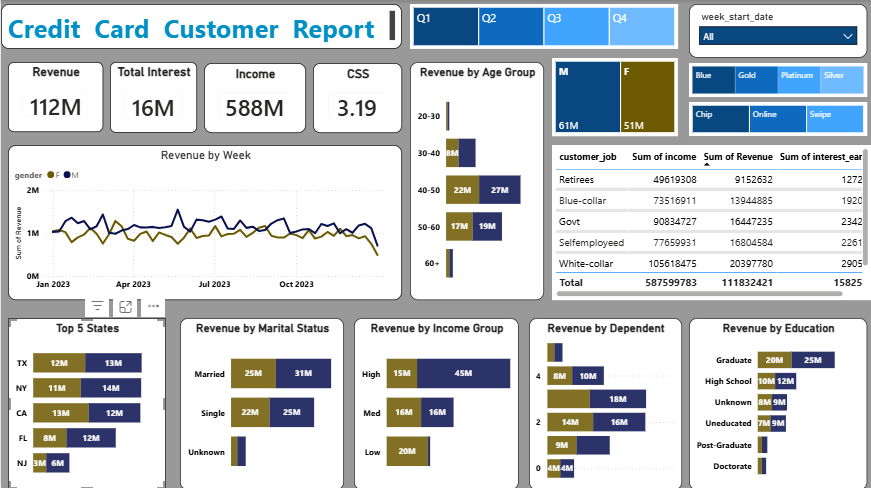

This screenshot's page, from the dashboard's own definition file:
{"tool":"powerbi","page":{"name":"CC Customer","canvas":[1280,720],"ordinal":2},"visuals":[{"type":"textbox","box":[0,5.9,589.2,66.1],"z":0},{"type":"barChart","title":" Revenue by Income Group","fields":{"Y":["Sum(public cc_detail.Revenue)"],"Category":["public cust_detail.IncomeGroup"],"Series":["public cust_detail.gender"]},"box":[518.7,467.3,242.4,252.7],"z":1000},{"type":"tableEx","fields":{"Values":["public cust_detail.customer_job","public cust_detail.income","Sum(public cc_detail.Revenue)","Sum(public cc_detail.interest_earned)"]},"box":[809.6,213.1,470.2,227.8],"z":2000},{"type":"cardVisual","title":"Revenue","fields":{"Data":["Sum(public cc_detail.Revenue)"]},"box":[10.3,91.1,139.6,102.9],"z":3000},{"type":"cardVisual","title":"Total Interest","fields":{"Data":["Sum(public cc_detail.interest_earned)"]},"box":[160.2,91.1,127.8,104.3],"z":4000},{"type":"cardVisual","title":"Income","fields":{"Data":["Sum(public cust_detail.income)"]},"box":[298.3,92.6,149.9,102.9],"z":5000},{"type":"cardVisual","title":"CSS","fields":{"Data":["Avg(public cust_detail.cust_satisfaction_score)"]},"box":[458.4,92.6,130.8,102.9],"z":6000},{"type":"slicer","fields":{"Values":["public cc_detail.week_start_date"]},"box":[1010.9,5.9,261.6,79.3],"z":7000},{"type":"treemap","fields":{"Group":["public cc_detail.qtr"],"Values":["Avg(public cust_detail.client_num)"]},"box":[601,5.9,393.8,66.1],"z":8000},{"type":"treemap","fields":{"Group":["public cc_detail.card_category"],"Values":["Avg(public cust_detail.client_num)"],"Details":["public cc_detail.card_category"]},"box":[1010.9,92.6,261.6,50],"z":9000},{"type":"lineChart","title":"Revenue by Week","fields":{"Y":["Sum(public cc_detail.Revenue)"],"Series":["public cust_detail.gender"],"Category":["public cc_detail.week_start_date.Variation.Date Hierarchy.Year","public cc_detail.week_start_date.Variation.Date Hierarchy.Month","public cc_detail.week_start_date.Variation.Date Hierarchy.Day"]},"box":[10.3,213.1,578.9,227.8],"z":10000},{"type":"treemap","fields":{"Group":["public cust_detail.gender"],"Values":["Sum(public cc_detail.Revenue)"]},"box":[809.6,85.2,185.1,114.6],"z":11000},{"type":"barChart","title":" Revenue by Age Group","fields":{"Y":["Sum(public cc_detail.Revenue)"],"Category":["public cust_detail.AgeGroup"],"Series":["public cust_detail.gender"]},"box":[601,91.1,196.9,349.7],"z":12000},{"type":"barChart","title":" Revenue by Dependent","fields":{"Y":["Sum(public cc_detail.Revenue)"],"Category":["public cust_detail.dependent_count"],"Series":["public cust_detail.gender"]},"box":[775.8,467.3,224.8,252.7],"z":13000},{"type":"barChart","title":" Revenue by Education","fields":{"Y":["Sum(public cc_detail.Revenue)"],"Category":["public cust_detail.education_level"],"Series":["public cust_detail.gender"]},"box":[1010.9,467.3,261.6,252.7],"z":14000},{"type":"barChart","title":"Top 5 States","fields":{"Y":["Sum(public cc_detail.Revenue)"],"Category":["public cust_detail.state_cd"],"Series":["public cust_detail.gender"]},"box":[10.3,467.3,232.2,252.7],"z":15000},{"type":"barChart","title":" Revenue by Marital Status","fields":{"Y":["Sum(public cc_detail.Revenue)"],"Category":["public cust_detail.marital_status"],"Series":["public cust_detail.gender"]},"box":[263,467.3,241,252.7],"z":16000},{"type":"treemap","fields":{"Group":["public cc_detail.use_chip"],"Values":["Avg(public cust_detail.client_num)"]},"box":[1010.9,149.9,261.6,50],"z":17000}]}

Visuals, with their boxes in screenshot pixels (x1, y1, x2, y2), scaled from the page's 1280x720 canvas onto the 871x488 screenshot:
textbox: (left=0, top=4, right=401, bottom=49)
" Revenue by Income Group" barChart: (left=353, top=317, right=518, bottom=487)
tableEx - public cust_detail.customer_job x public cust_detail.income: (left=551, top=144, right=870, bottom=299)
"Revenue" cardVisual: (left=7, top=62, right=102, bottom=131)
"Total Interest" cardVisual: (left=109, top=62, right=196, bottom=132)
"Income" cardVisual: (left=203, top=63, right=305, bottom=133)
"CSS" cardVisual: (left=312, top=63, right=401, bottom=133)
slicer - public cc_detail.week_start_date: (left=688, top=4, right=866, bottom=58)
treemap - public cc_detail.qtr x Avg(public cust_detail.client_num): (left=409, top=4, right=677, bottom=49)
treemap - public cc_detail.card_category x Avg(public cust_detail.client_num): (left=688, top=63, right=866, bottom=97)
"Revenue by Week" lineChart: (left=7, top=144, right=401, bottom=299)
treemap - public cust_detail.gender x Sum(public cc_detail.Revenue): (left=551, top=58, right=677, bottom=135)
" Revenue by Age Group" barChart: (left=409, top=62, right=543, bottom=299)
" Revenue by Dependent" barChart: (left=528, top=317, right=681, bottom=487)
" Revenue by Education" barChart: (left=688, top=317, right=866, bottom=487)
"Top 5 States" barChart: (left=7, top=317, right=165, bottom=487)
" Revenue by Marital Status" barChart: (left=179, top=317, right=343, bottom=487)
treemap - public cc_detail.use_chip x Avg(public cust_detail.client_num): (left=688, top=102, right=866, bottom=135)
